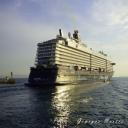cruises: (28, 25, 117, 88)
